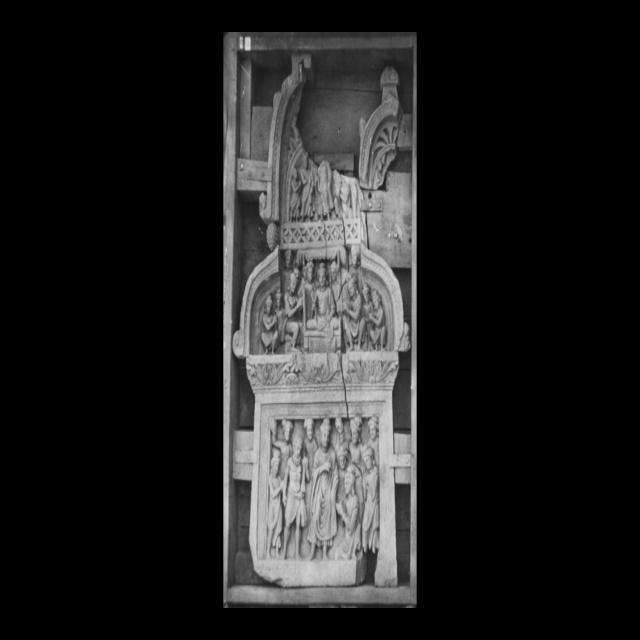buddha-sitting: (304, 262, 341, 351)
buddha-standing: (308, 420, 339, 560)
